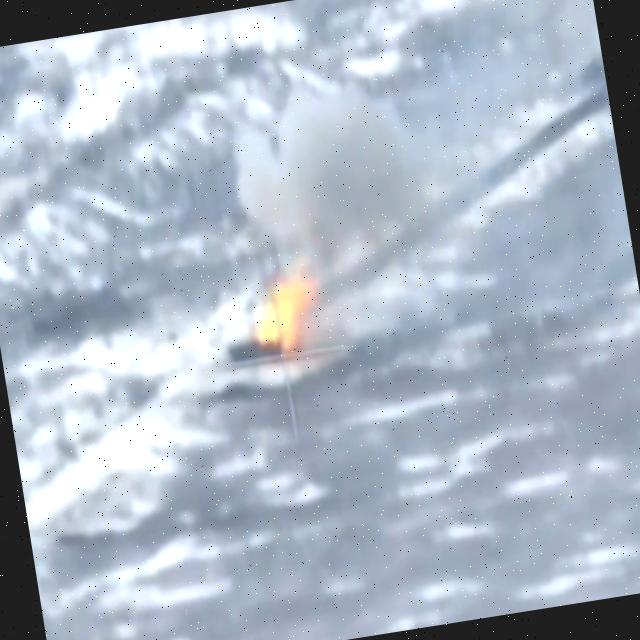Destroyed: (228, 326, 291, 370)
